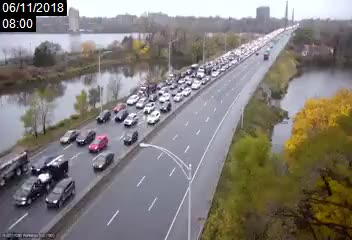congestion: (1, 114, 141, 213), (100, 85, 178, 125), (156, 65, 212, 92), (200, 57, 237, 71)
personal_car: (14, 175, 49, 206), (45, 177, 78, 206), (30, 154, 54, 175), (87, 135, 110, 153), (92, 152, 113, 170), (59, 129, 79, 144), (122, 130, 139, 145), (76, 130, 93, 144), (96, 109, 113, 122), (124, 112, 138, 127), (146, 111, 160, 125), (114, 108, 127, 121), (112, 102, 127, 113), (158, 101, 172, 112), (136, 96, 148, 108), (127, 94, 139, 105), (143, 102, 155, 112), (160, 93, 170, 103), (191, 81, 202, 90), (173, 93, 184, 102), (182, 87, 192, 96), (156, 81, 165, 90), (168, 82, 177, 90), (177, 77, 185, 84)
truck: (139, 82, 155, 96), (166, 70, 181, 84), (197, 66, 213, 78), (186, 63, 198, 75)
